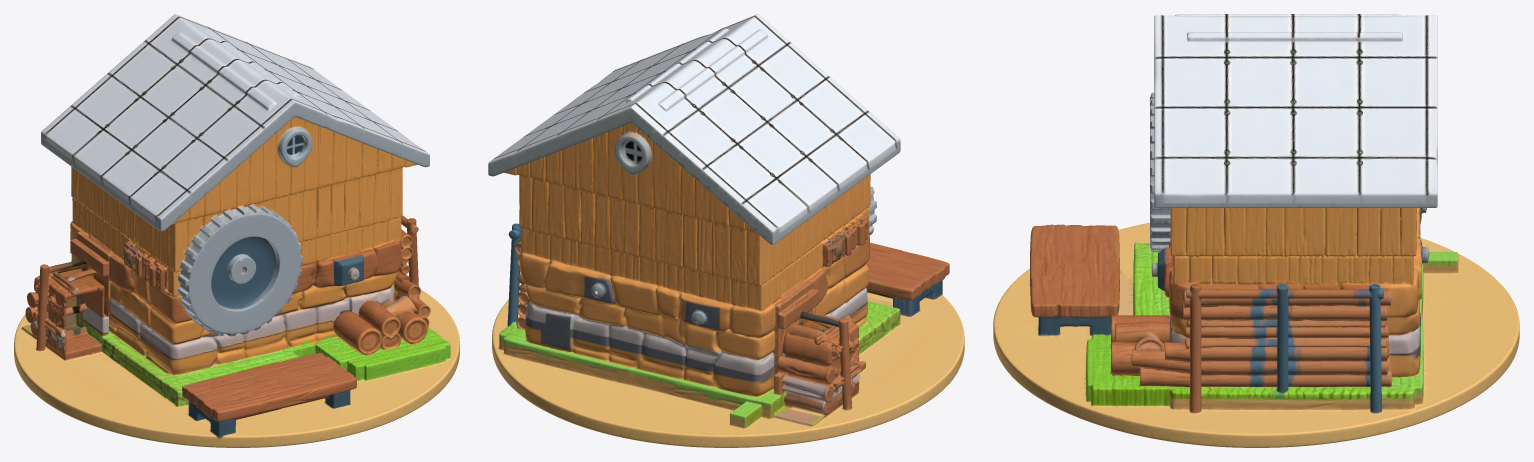
Rendered from Model_Sawmill.fbx.
3 renders of one model, left to right at view 1: azimuth 30°, elevation 25°; view 2: azimuth 150°, elevation 25°; view 3: azimuth 270°, elevation 25°, orthographic. The views are drawn at different scales.
Parts seen in each view (by area): view 1: Mesh_0; view 2: Mesh_0; view 3: Mesh_0.
Part boxes in pixels (<box>): Mesh_0: <box>14,14,459,447</box>; Mesh_0: <box>488,14,964,447</box>; Mesh_0: <box>993,14,1519,447</box>.
Size of the model in its own units: 1.9 by 1.32 by 1.9.
Materials: 1 (1 with a texture image).
